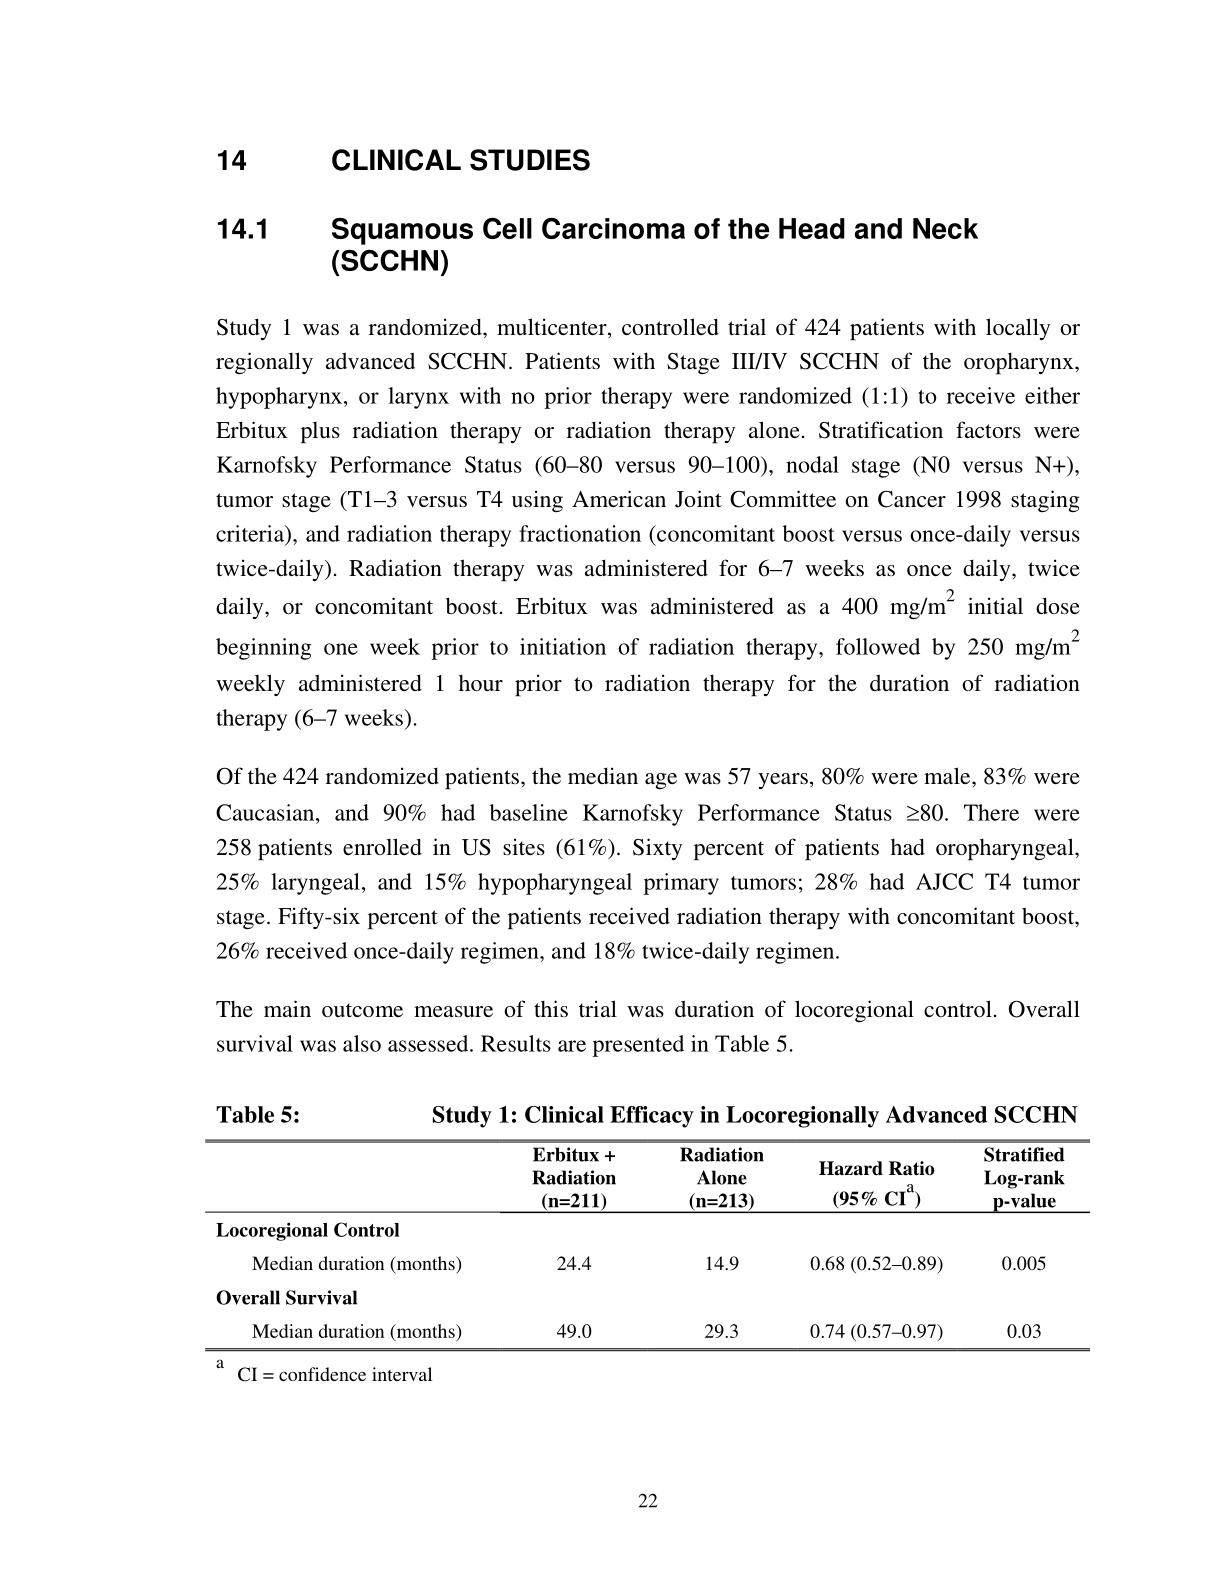partial_lined_merged_cells: (197, 1134, 1099, 1356)
